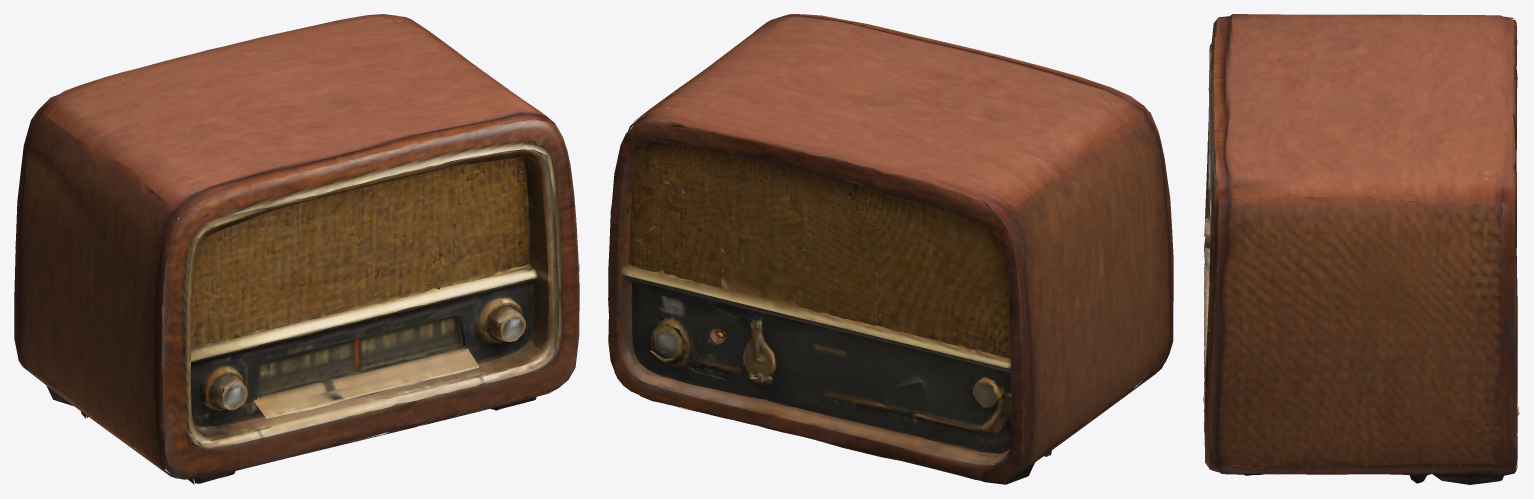
Rendered from court-radio.glb.
3 renders of one model, left to right at view 1: azimuth 30°, elevation 25°; view 2: azimuth 150°, elevation 25°; view 3: azimuth 270°, elevation 25°, orthographic.
Visible parts, largest first — view 1: YVO3D.obj; view 2: YVO3D.obj; view 3: YVO3D.obj.
Part boxes in pixels (x1,y1,x2,y2): YVO3D.obj: (14,14,579,484); YVO3D.obj: (608,14,1173,484); YVO3D.obj: (1203,14,1519,484).
Bounding box in the file's own units: 0.9 × 0.6142 × 0.5783.
Materials: 1 (1 with a texture image).
